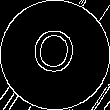O_S: (29, 26, 81, 84)
